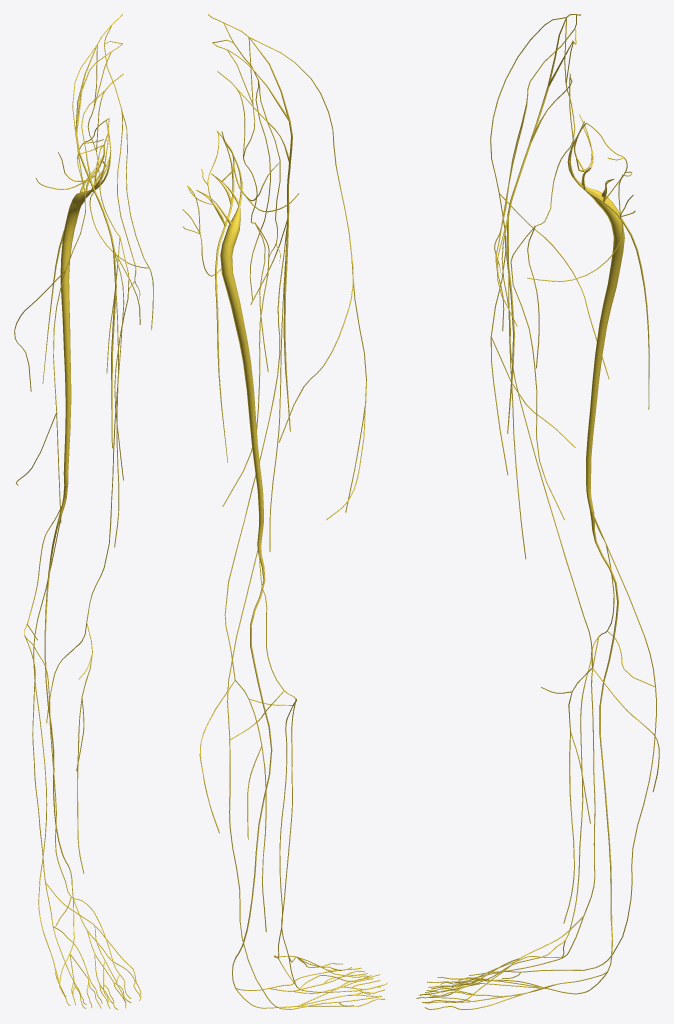
The model's file is nerves.glb.
3 renders of one model, left to right at view 1: azimuth 30°, elevation 25°; view 2: azimuth 150°, elevation 25°; view 3: azimuth 270°, elevation 25°, orthographic. The views are drawn at different scales.
Visible parts, largest first — view 1: Sciatic nerve.r.001, Femoral nerve.r.001, Saphenous nerve.r.001, Lateral femoral cutaneous nerve.r.001, Tibial nerve.r.001, Sural nerve.r.001, Deep fibular nerve.r.001, Obturator nerve.r.001, Anterior cutaneous branches of femoral nerve.r.001, Posterior femoral cutaneous nerve.r.001, Superficial fibular nerve.r.001, Anterior branch of obturator nerve.r.001; view 2: Sciatic nerve.r.001, Saphenous nerve.r.001, Femoral nerve.r.001, Lateral femoral cutaneous nerve.r.001, Tibial nerve.r.001, Sural nerve.r.001, Posterior femoral cutaneous nerve.r.001, Obturator nerve.r.001, Anterior cutaneous branches of femoral nerve.r.001; view 3: Sciatic nerve.r.001, Saphenous nerve.r.001, Lateral femoral cutaneous nerve.r.001, Femoral nerve.r.001, Tibial nerve.r.001, Sural nerve.r.001, Posterior femoral cutaneous nerve.r.001, Deep fibular nerve.r.001.
Boxes of the visible parts, x1,y1,x2,y2 form: Sciatic nerve.r.001: (60, 120, 109, 498); Femoral nerve.r.001: (75, 14, 122, 448); Saphenous nerve.r.001: (46, 253, 124, 873); Lateral femoral cutaneous nerve.r.001: (14, 44, 97, 522); Tibial nerve.r.001: (44, 497, 73, 896); Sural nerve.r.001: (33, 589, 66, 996); Deep fibular nerve.r.001: (24, 635, 109, 949); Obturator nerve.r.001: (87, 45, 123, 236); Anterior cutaneous branches of femoral nerve.r.001: (114, 293, 119, 547); Posterior femoral cutaneous nerve.r.001: (42, 150, 111, 383); Superficial fibular nerve.r.001: (25, 637, 45, 882); Anterior branch of obturator nerve.r.001: (114, 236, 129, 480); Sciatic nerve.r.001: (196, 131, 263, 545); Saphenous nerve.r.001: (199, 226, 286, 931); Femoral nerve.r.001: (208, 14, 292, 431); Lateral femoral cutaneous nerve.r.001: (249, 37, 366, 520); Tibial nerve.r.001: (232, 545, 272, 987); Sural nerve.r.001: (227, 681, 378, 1009); Posterior femoral cutaneous nerve.r.001: (215, 155, 234, 462); Obturator nerve.r.001: (217, 37, 257, 223); Anterior cutaneous branches of femoral nerve.r.001: (269, 233, 287, 551); Sciatic nerve.r.001: (567, 121, 624, 512); Saphenous nerve.r.001: (501, 221, 659, 923); Lateral femoral cutaneous nerve.r.001: (490, 17, 609, 475); Femoral nerve.r.001: (506, 14, 580, 433); Tibial nerve.r.001: (590, 512, 618, 971); Sural nerve.r.001: (469, 636, 656, 978); Posterior femoral cutaneous nerve.r.001: (569, 149, 649, 409); Deep fibular nerve.r.001: (492, 636, 598, 976).
Bounding box in the file's own units: 0.1501 × 1.09 × 0.2356.
